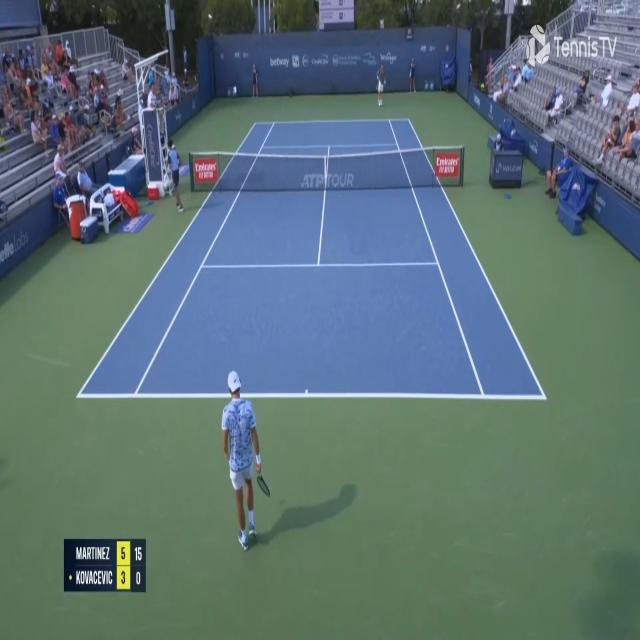tennis-player: (221, 366, 274, 554), (376, 60, 386, 109)
